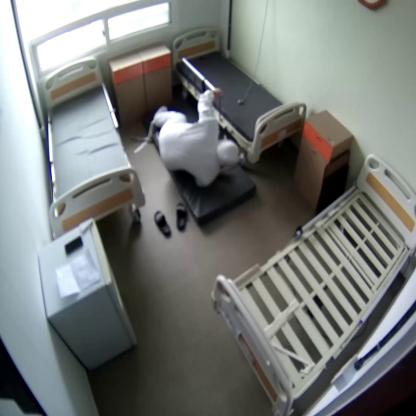Person: (153, 88, 240, 185)
